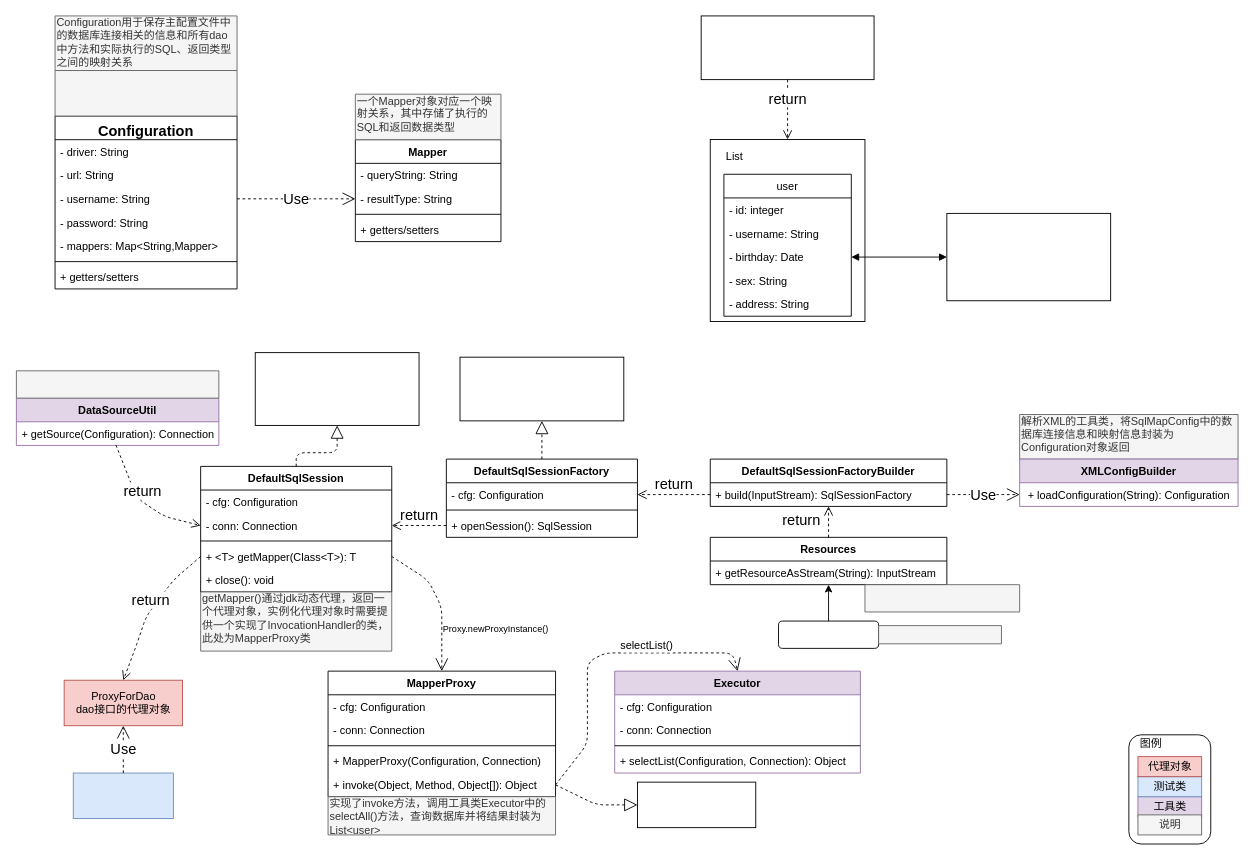
Image size: 1254x860. Some labels were removed from this diagram. Each missing label, with the centre of its shape:
<<Interface>> SqlSession + <T> getMapper(Class<T>): T + close(): void: the point at 336,388
<<Interface>> SqlSessionFactory + openSession(): SqlSession: the point at 541,388
<<Interface>> UserDao + findAll(): List<user>: the point at 787,47
Mybatis的主配置文件: the point at 939,634
SqlMapConfig.xml: the point at 828,634
Test: the point at 122,795
user id: int username: varchar birthday: date sex: varchar address: varchar: the point at 1028,256
«interface» InvocationHandler: the point at 696,804
其中的Map<String, Mapper> mappers用于存储dao接口中方法的全限定名和具体Mapper的对应关系: the point at 145,93
通过传入的Configuration对象，创建数据库连接Connection对象: the point at 117,384
通过类加载器获取项目根目录下主配置文件的运行时绝对路径: the point at 942,598
